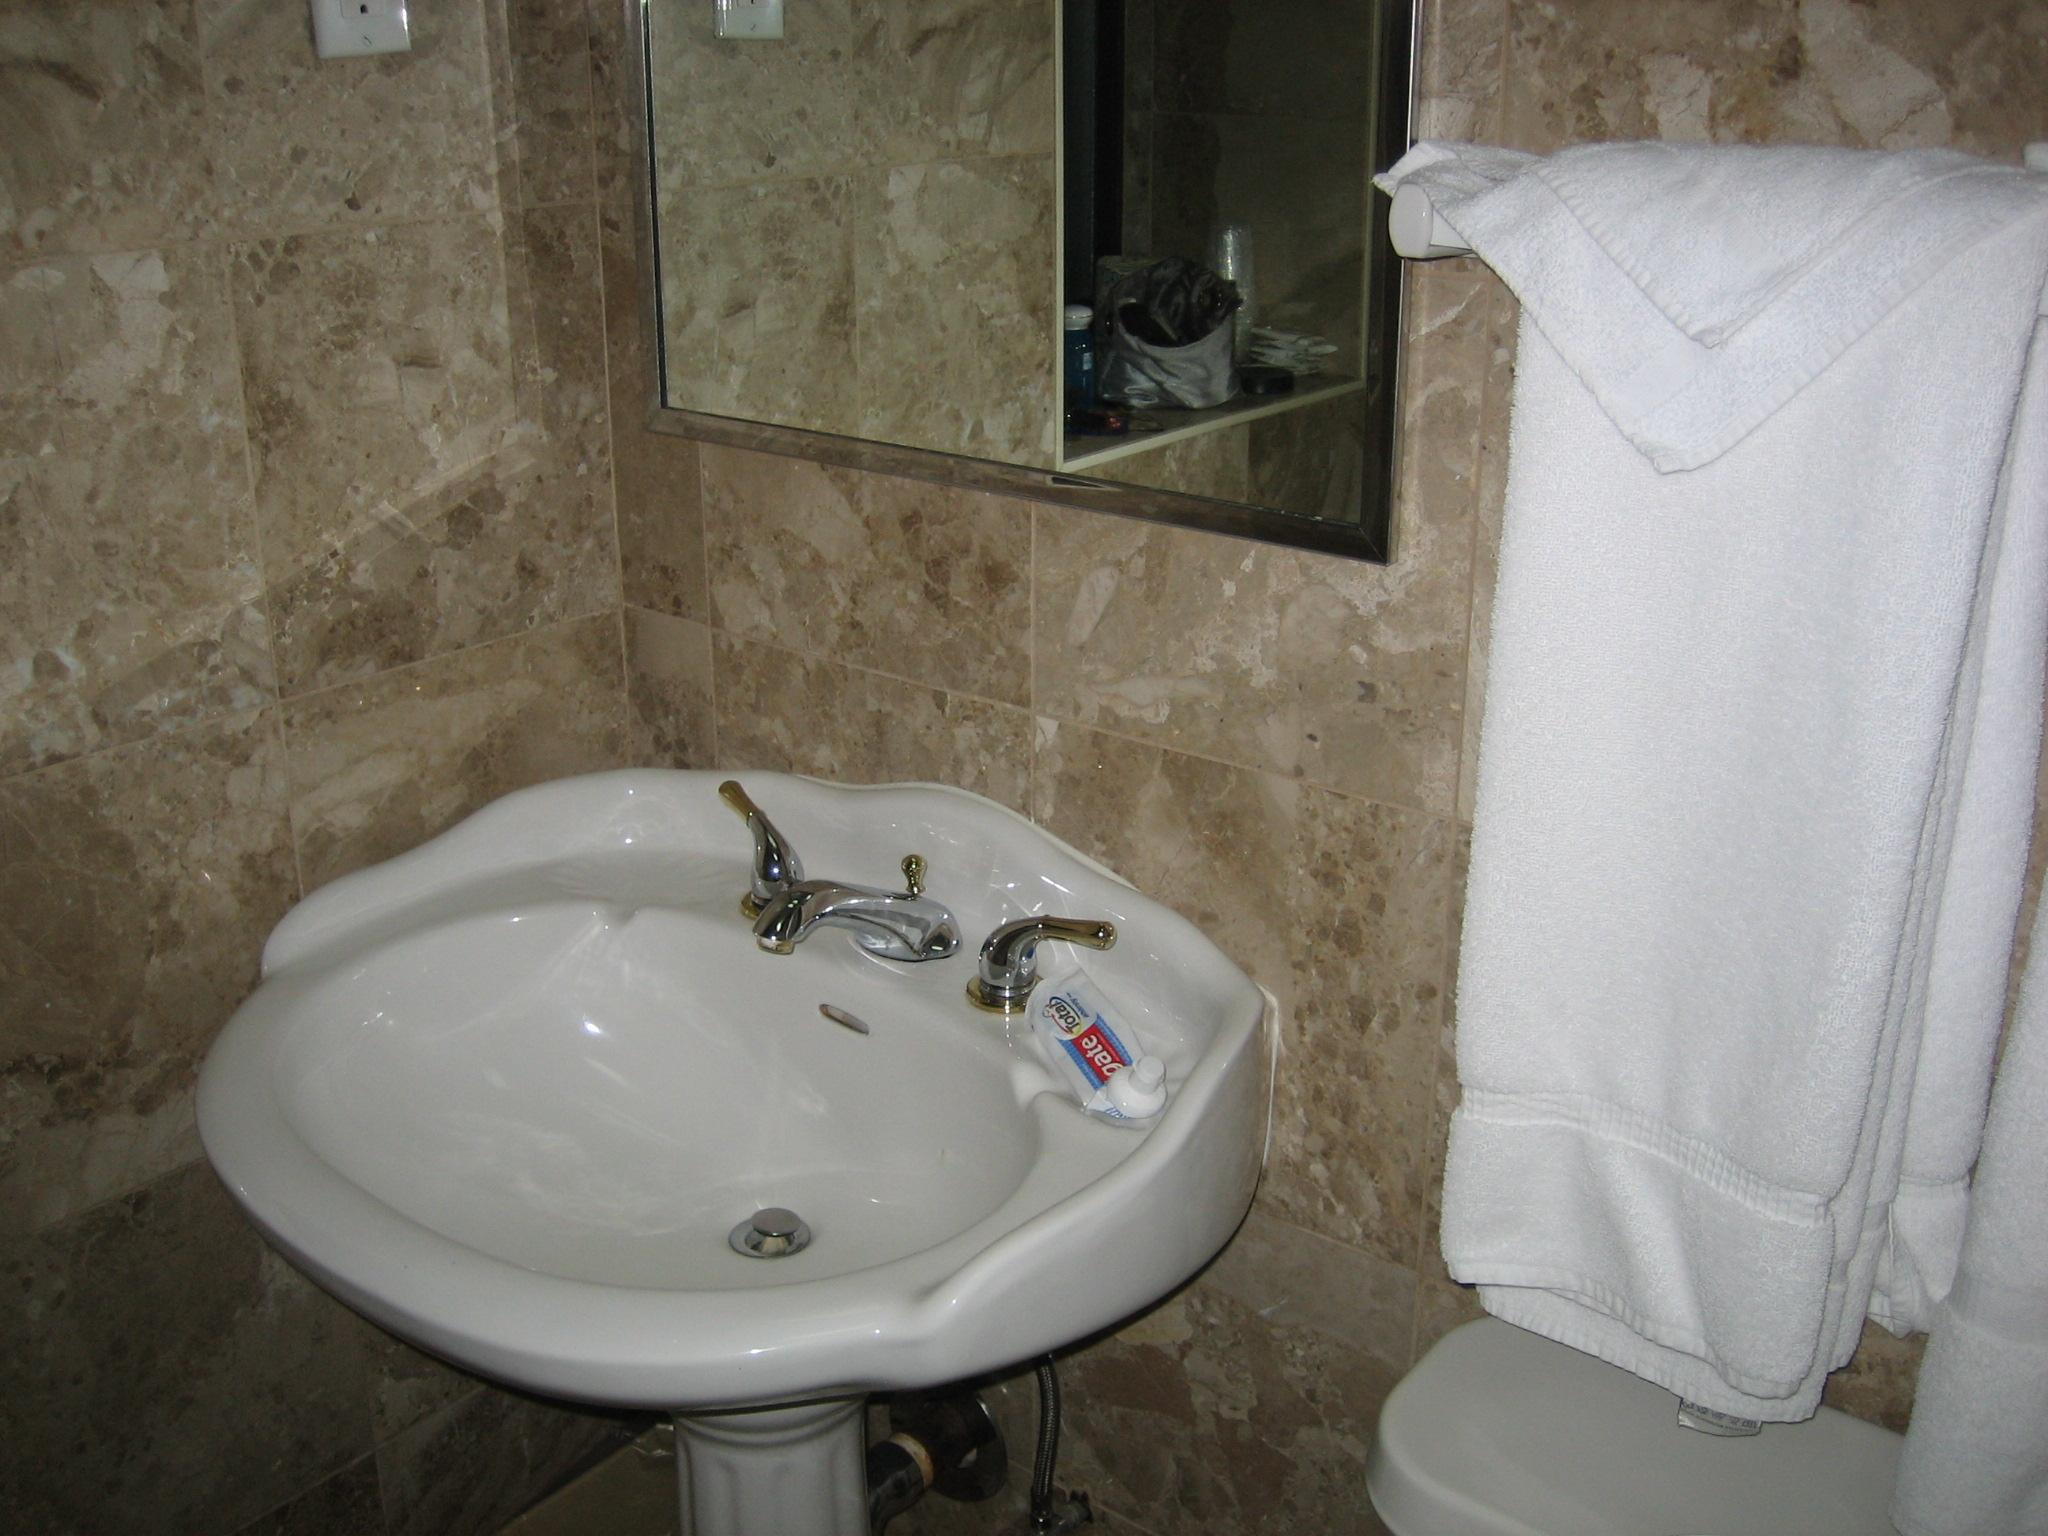Lavamanos: (198, 774, 1388, 1462)
